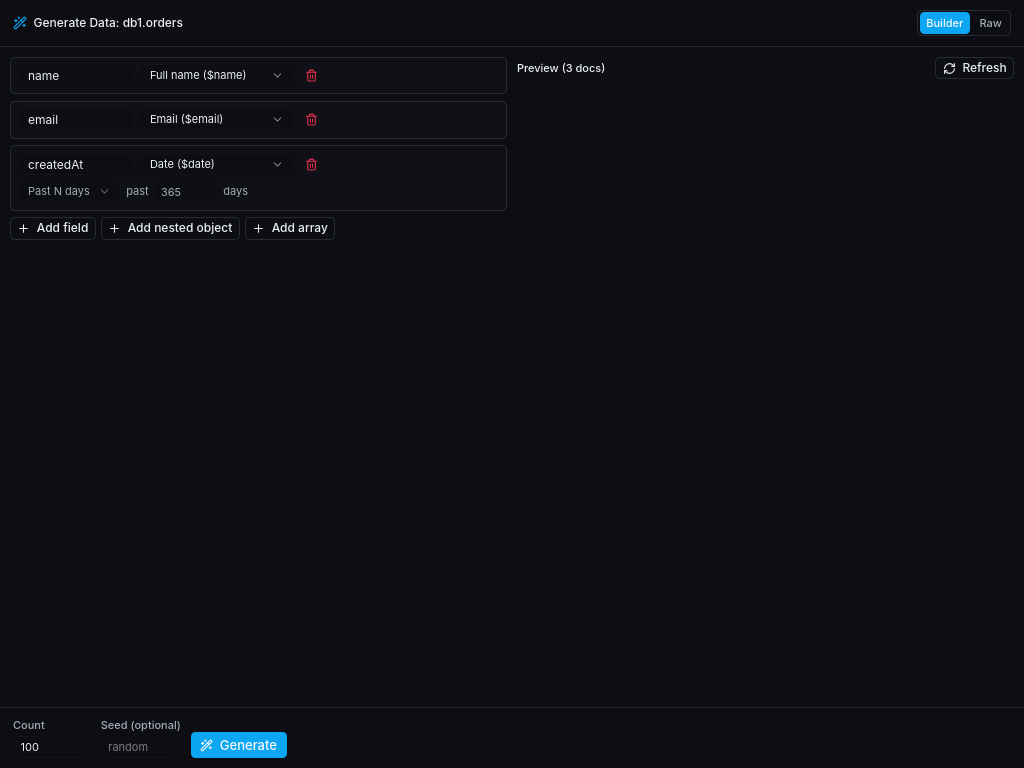
Test: GenerateView › count validation › disables Generate for an out-of-range or non-integer count
Step 1. Replace the text in the number field with test id "generate-count-input" with "0" → (52, 747), box [13,736,91,758]
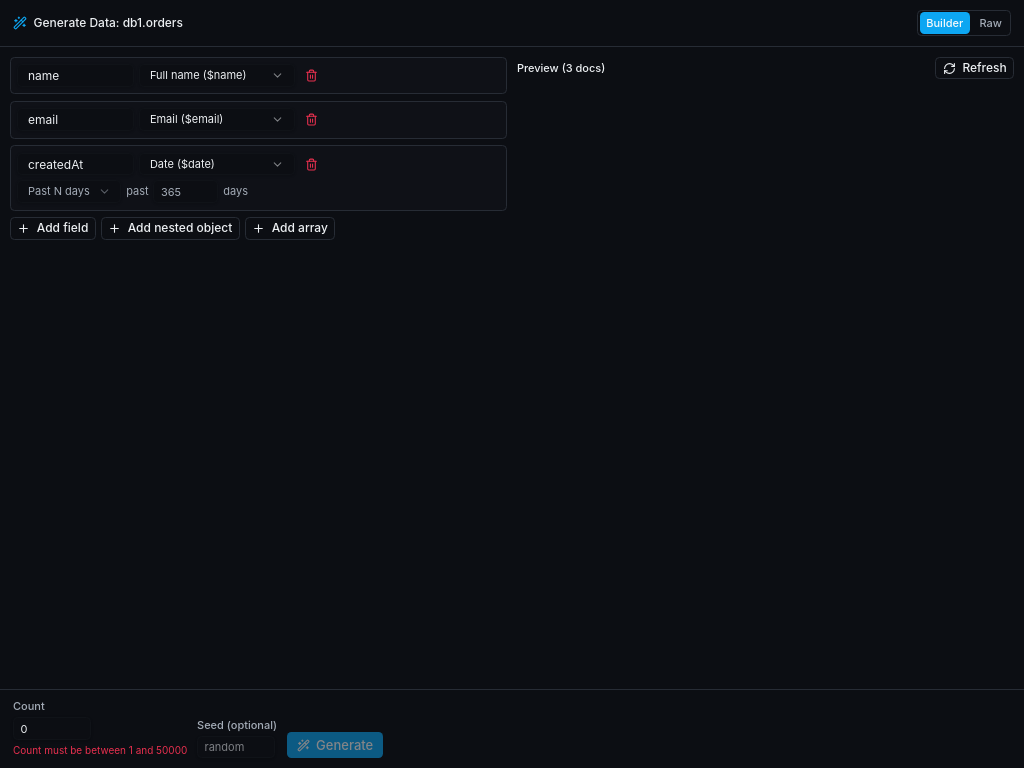
Expected: the text "Count must be between 1 and 50000" is shown, [13,743,187,758]
Expected: the button with test id "generate-run-btn" is disabled, [287,732,383,758]
Step 2. Replace the text in the number field with test id "generate-count-input" with "50001" → (52, 729), box [13,717,91,740]
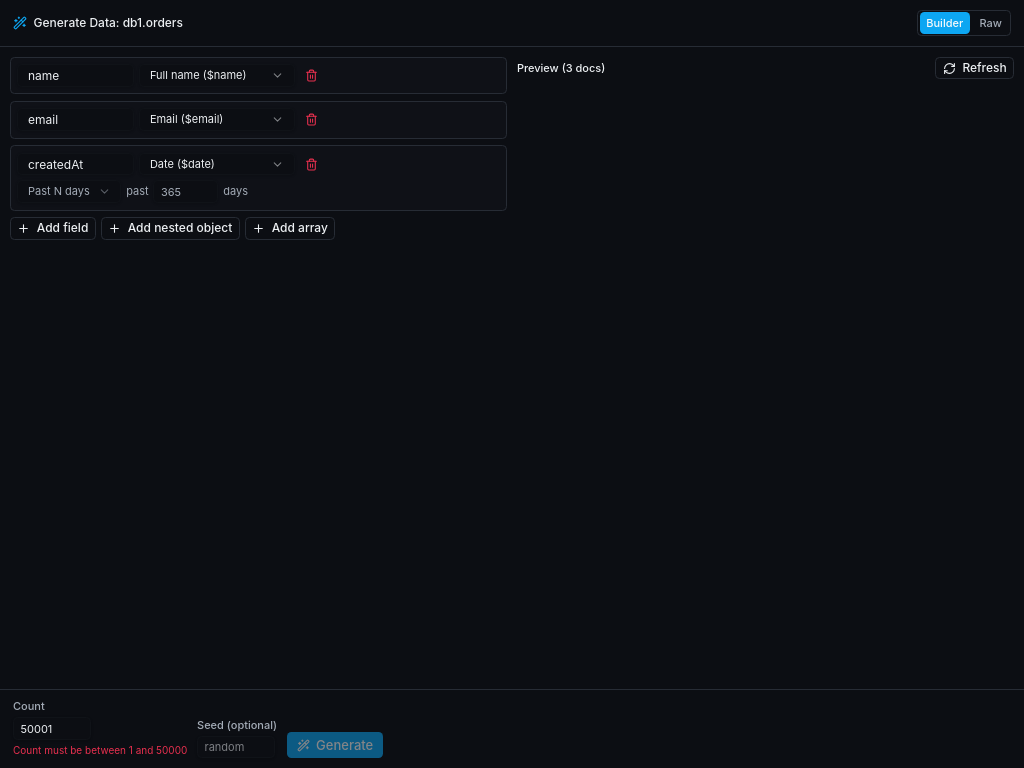
Expected: the text "Count must be between 1 and 50000" is shown, [13,743,187,758]
Expected: the button with test id "generate-run-btn" is disabled, [287,732,383,758]
Step 3. Replace the text in the number field with test id "generate-count-input" with "250" → (52, 729), box [13,717,91,740]
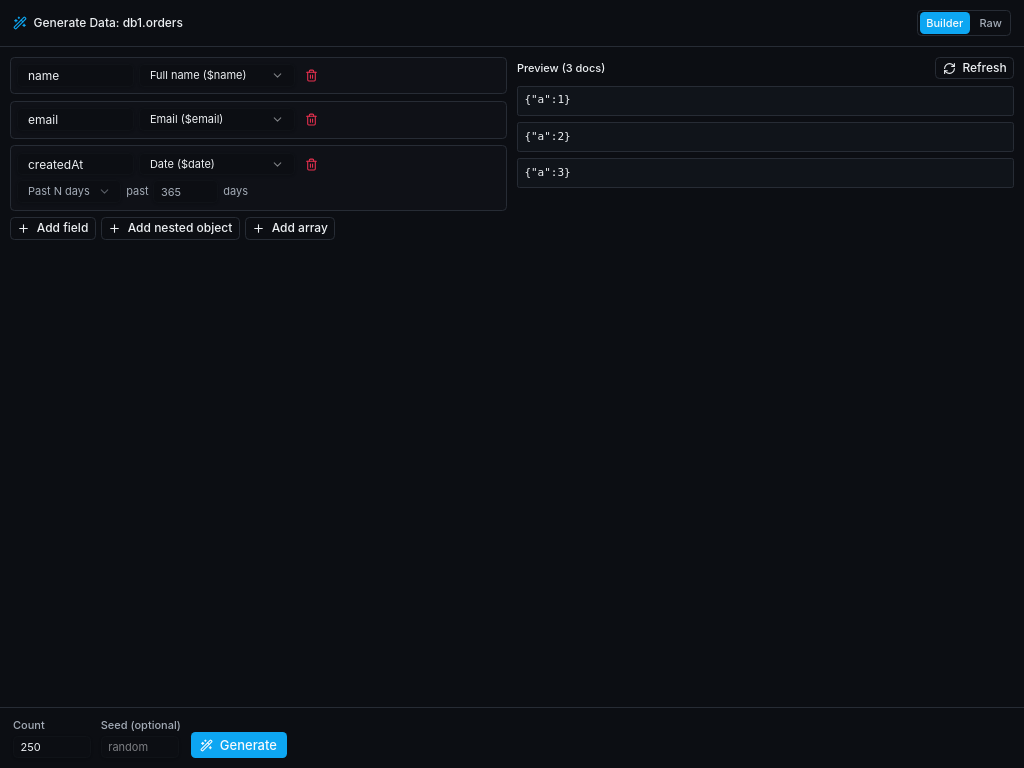
Expected: the text with test id "generate-count-error" is gone
Expected: the button with test id "generate-run-btn" is enabled, [191,732,287,758]
